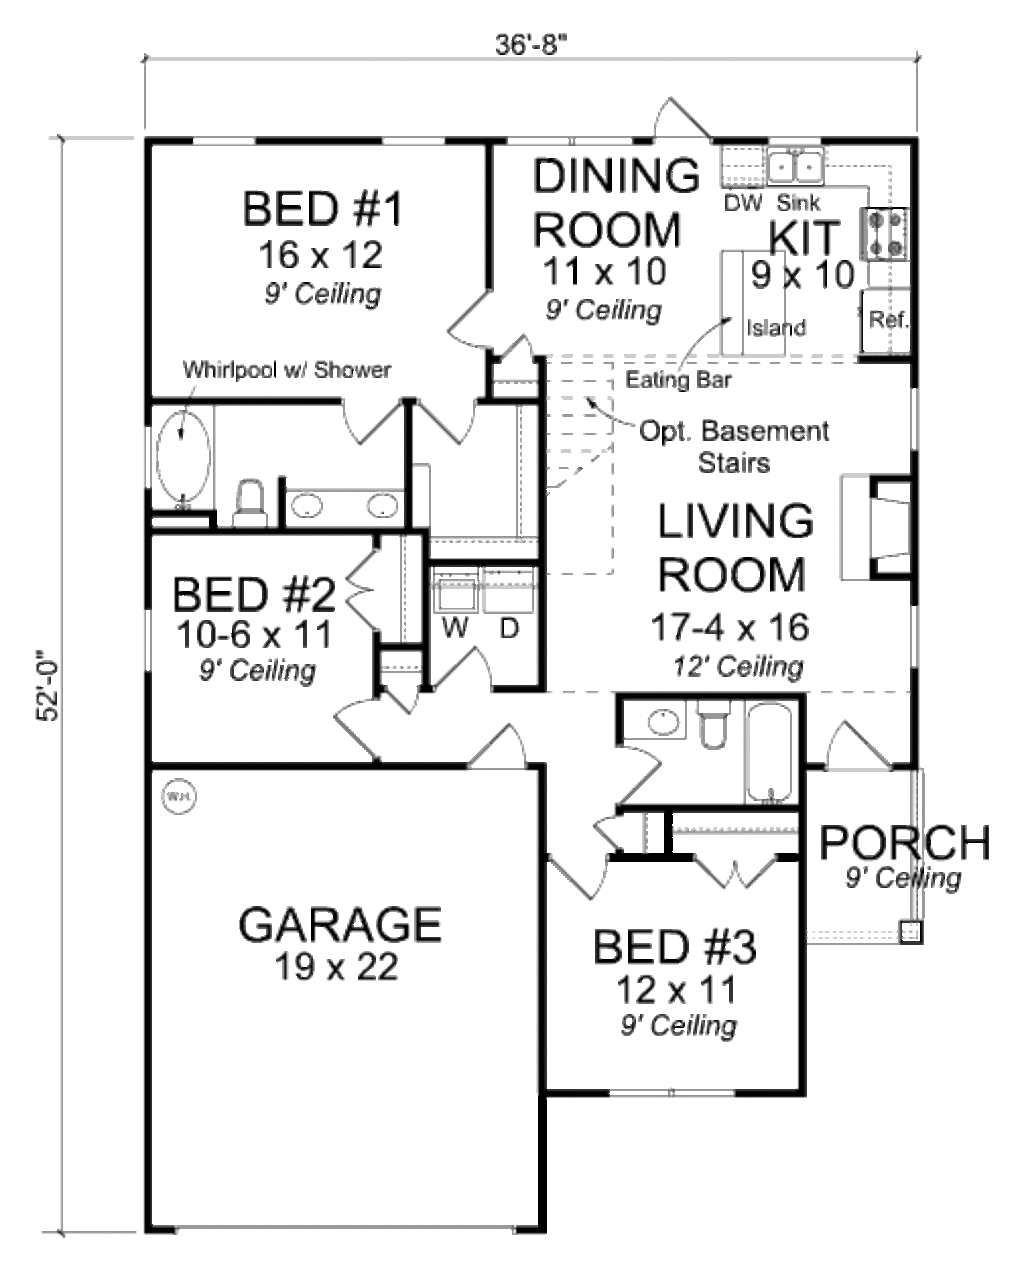door: (341, 544, 391, 629), (691, 846, 779, 892), (447, 281, 506, 350), (331, 688, 385, 761), (647, 92, 718, 146), (456, 715, 526, 769), (416, 390, 480, 448), (543, 848, 614, 900), (820, 718, 891, 769), (345, 394, 405, 450), (433, 642, 495, 696), (614, 744, 666, 808), (591, 806, 647, 854), (483, 333, 539, 369), (380, 675, 422, 719)
large_sink: (226, 465, 274, 531), (697, 690, 735, 761)
small_sink: (274, 477, 420, 540), (612, 690, 691, 744)
tub: (147, 404, 216, 533), (741, 698, 802, 802)
twin_sink: (764, 138, 845, 196)
window: (604, 1081, 739, 1102), (185, 130, 274, 154), (899, 598, 924, 673), (374, 131, 447, 152), (906, 386, 926, 456)
